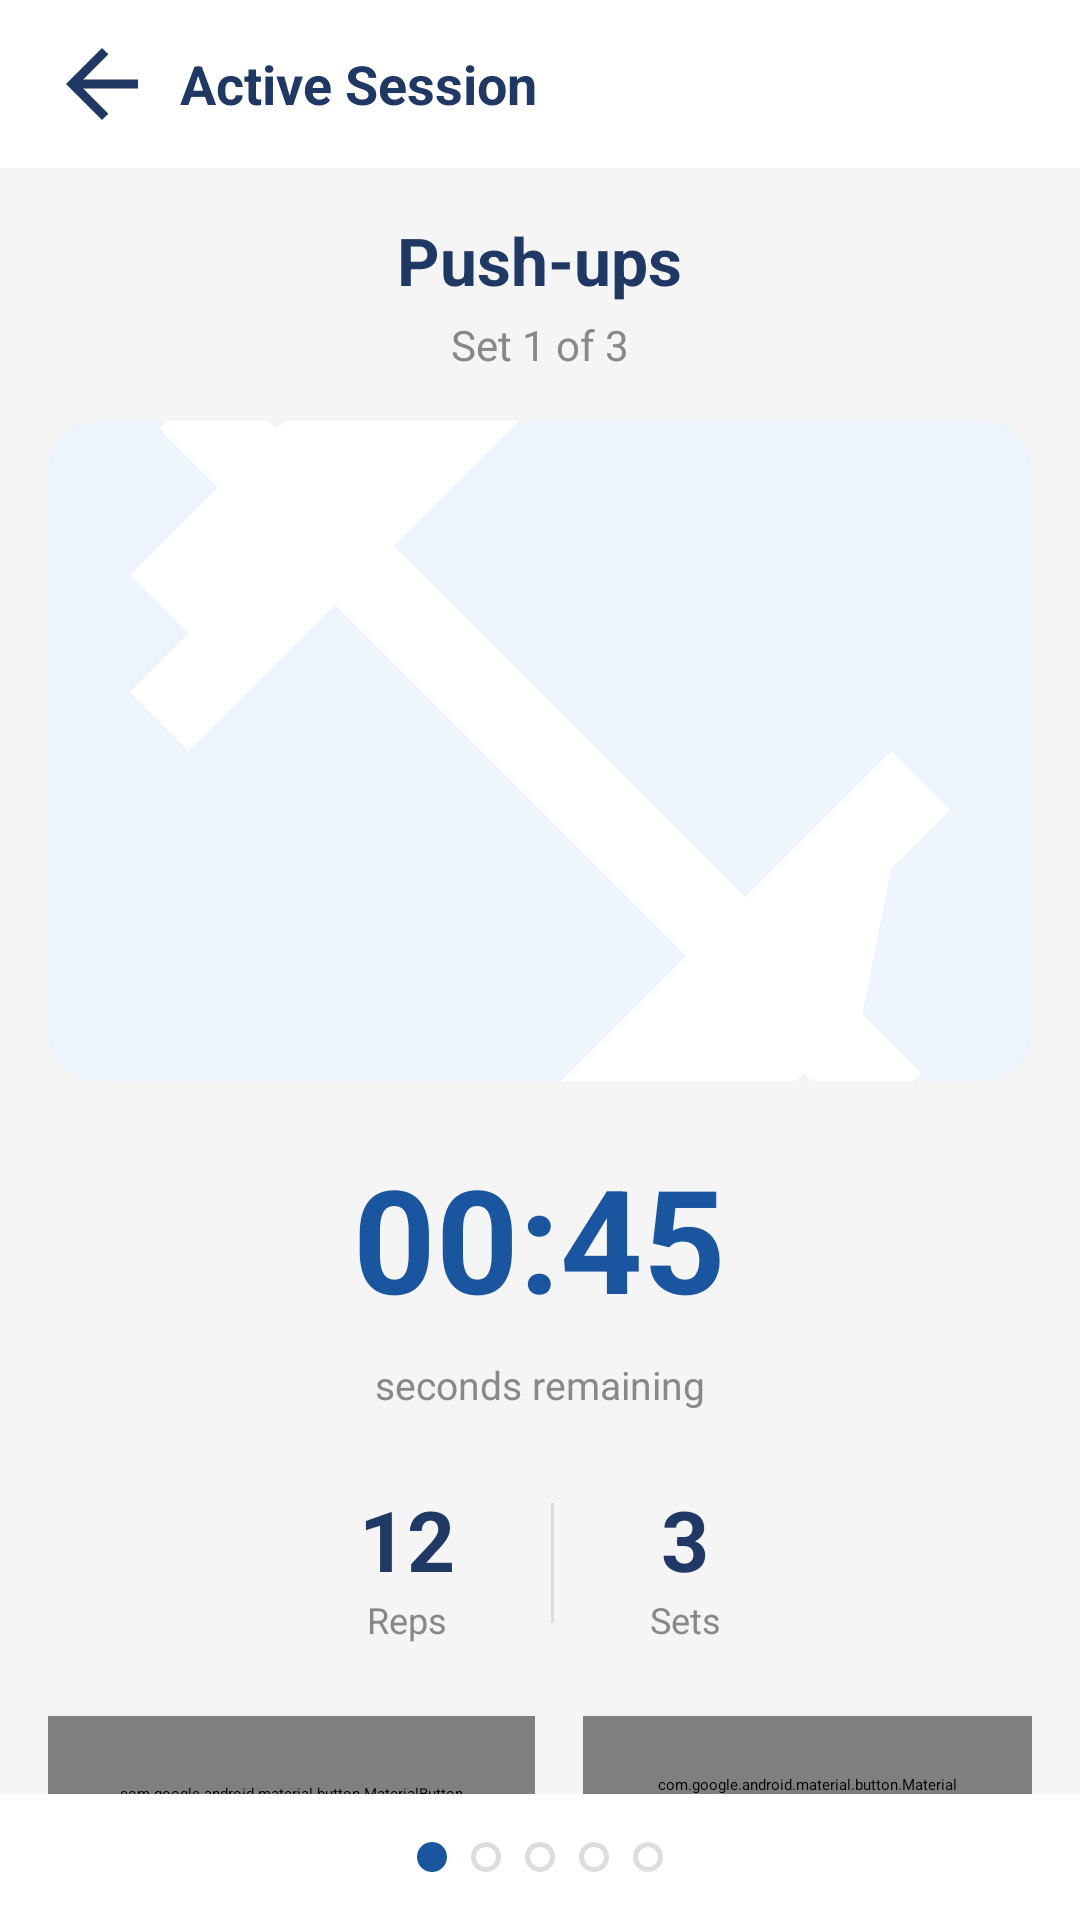

Icons on this 1080×1920 Android screen, each with its box as (x1, y1, x2, y2):
back arrow: (66, 48, 138, 120)
dot progress: (417, 1842, 447, 1872), (471, 1842, 501, 1872), (525, 1842, 555, 1872), (579, 1842, 609, 1872), (633, 1842, 663, 1872)
